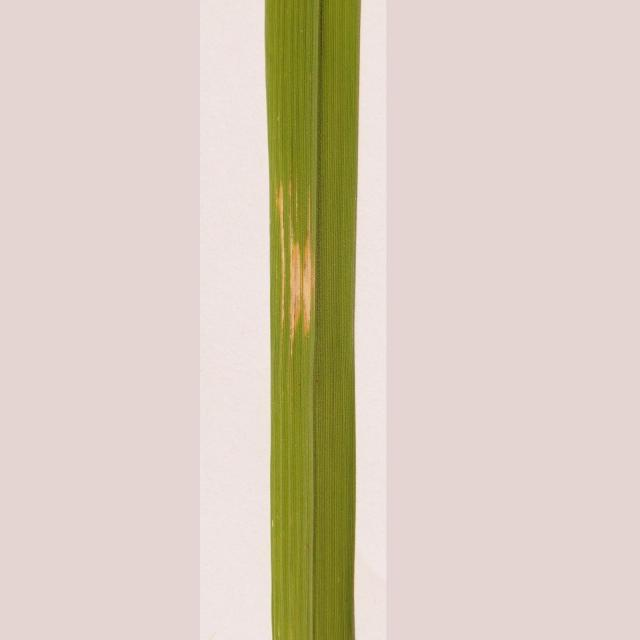leaf blight: (265, 177, 345, 354)
